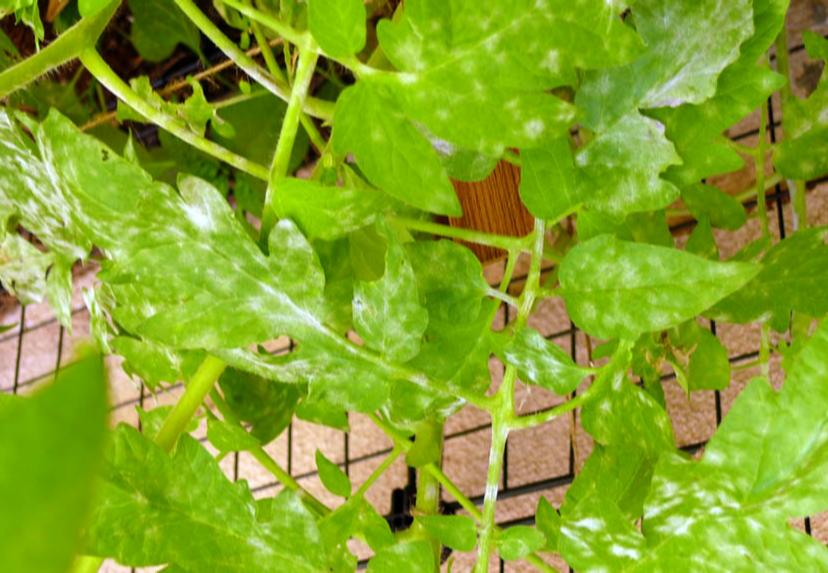Tomato mold leaf: (44, 104, 424, 415), (614, 115, 828, 573), (319, 0, 658, 218), (49, 440, 374, 573), (539, 238, 786, 343), (483, 325, 575, 396)
